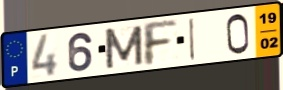0: (224, 12, 250, 56)
4: (29, 32, 60, 79)
6: (66, 30, 95, 73)
F: (140, 19, 180, 68)
I: (188, 16, 197, 62)
M: (102, 24, 145, 71)
